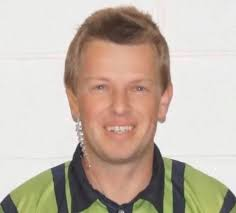white_male: (71, 54, 151, 171)
